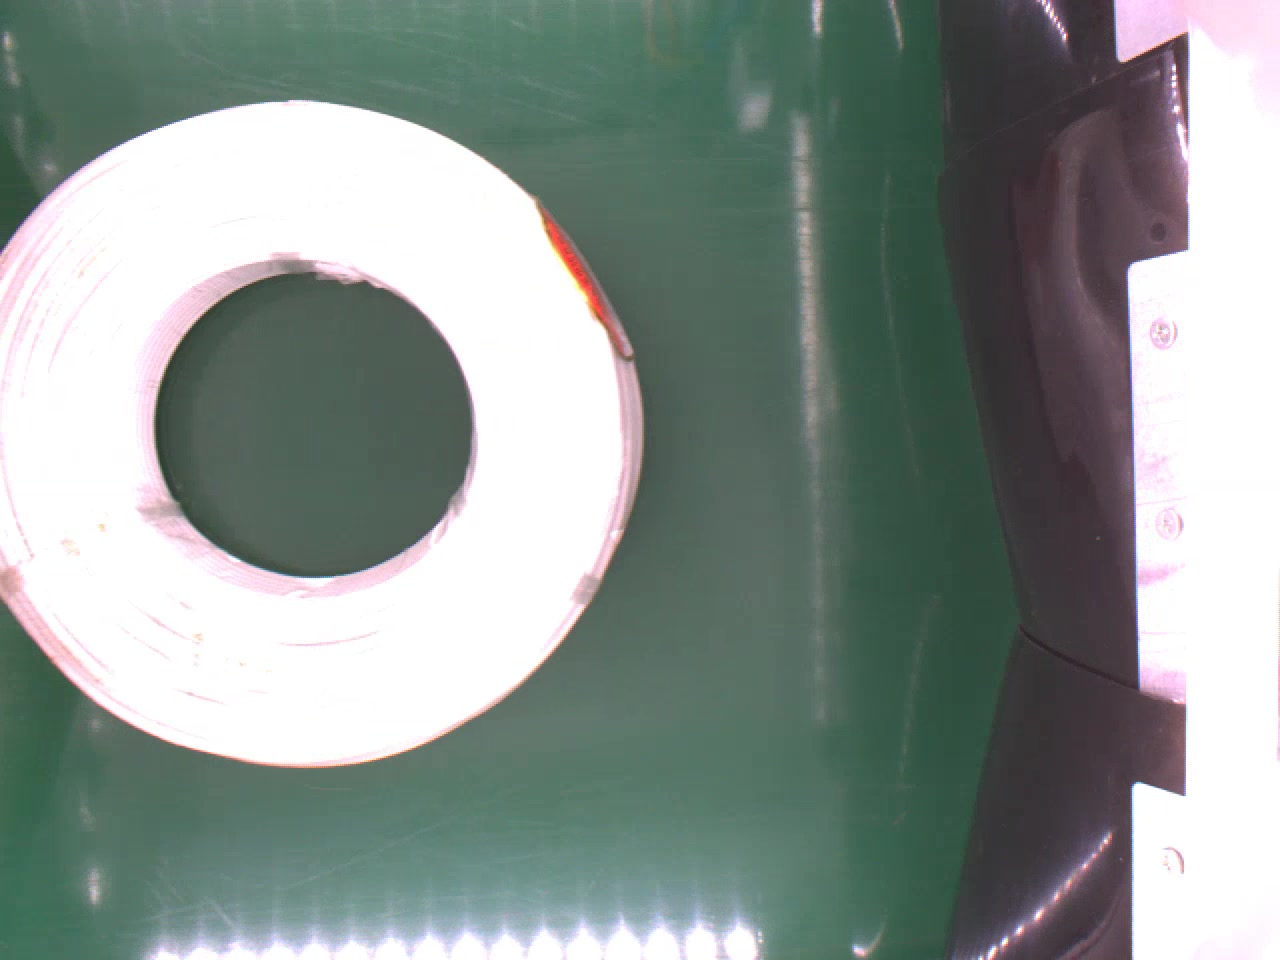white: (0, 95, 648, 767)
